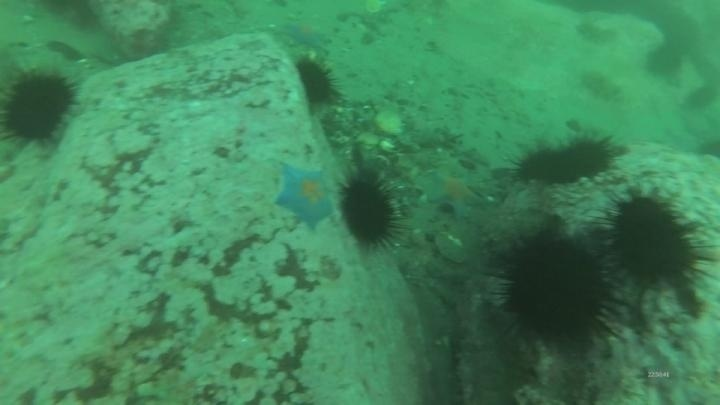echinus: (493, 229, 621, 354), (599, 186, 707, 291), (1, 70, 78, 148), (336, 171, 402, 251), (511, 146, 581, 187), (558, 134, 616, 182), (293, 56, 339, 108), (643, 42, 685, 80), (683, 83, 718, 113)
holothurian: (576, 66, 625, 106), (572, 14, 628, 47)
starfish: (272, 163, 336, 231), (422, 168, 482, 220), (281, 18, 332, 51)
